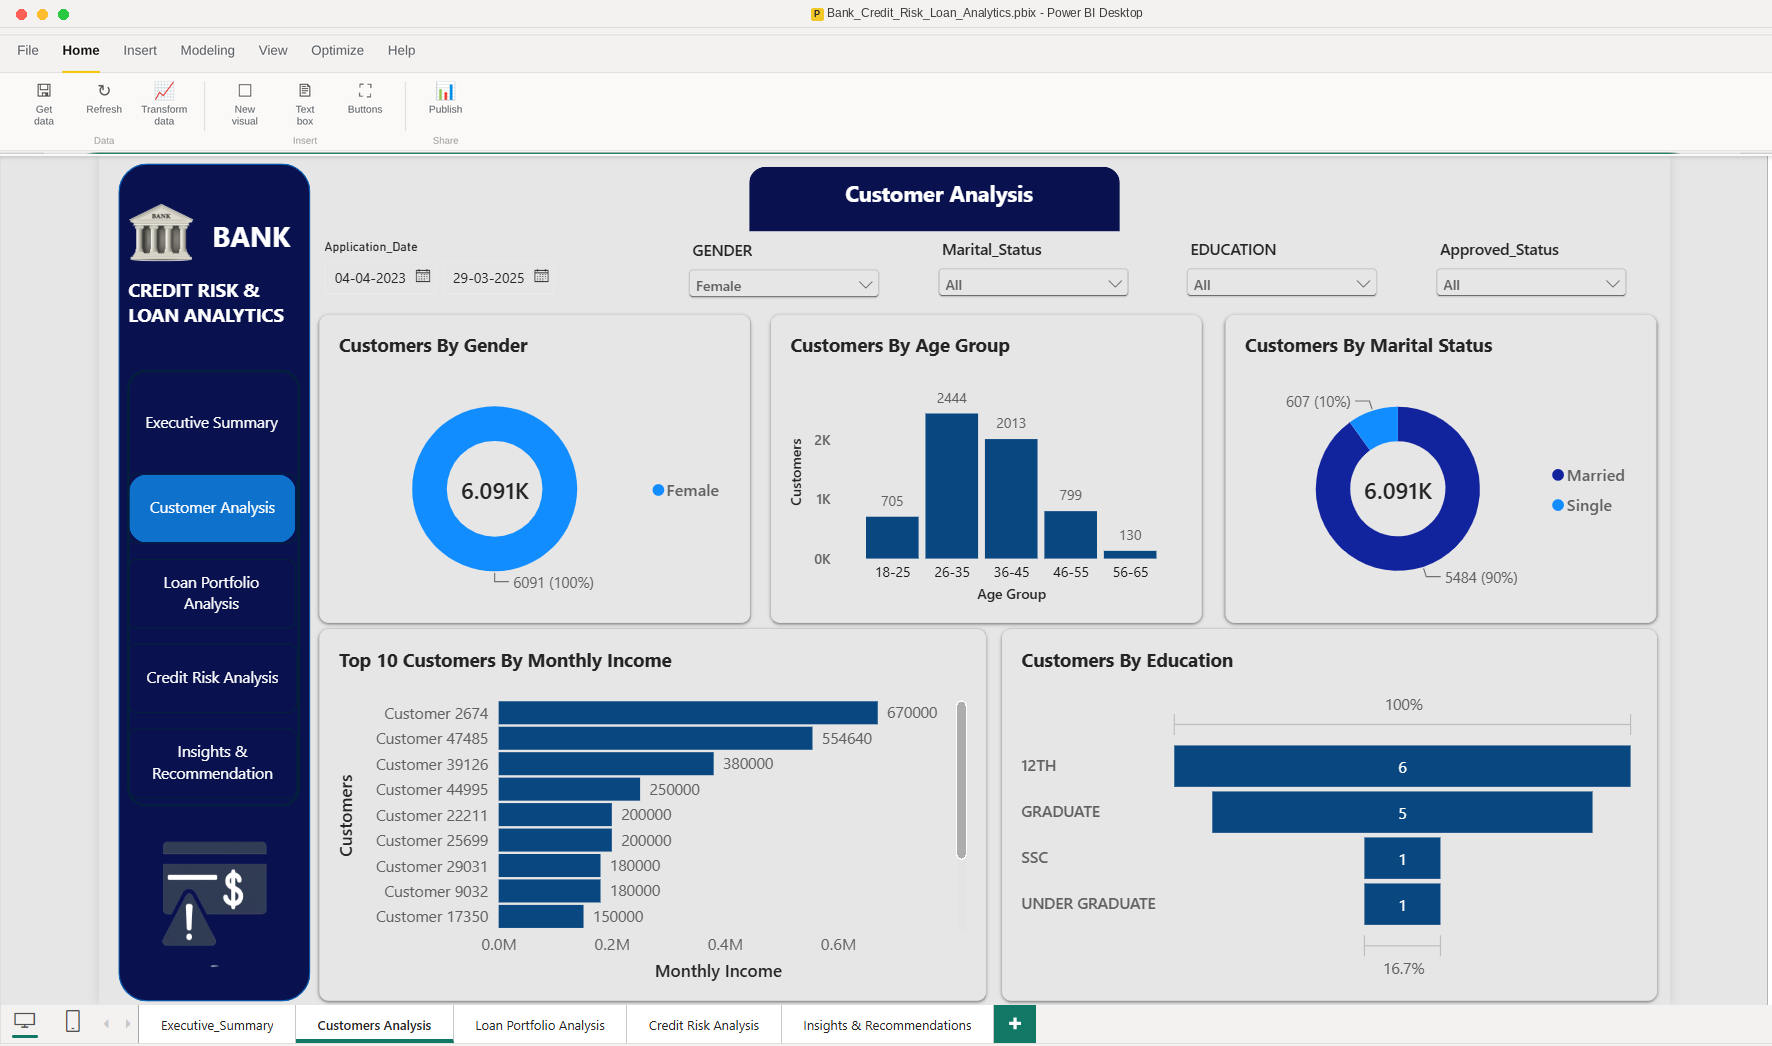

The dashboard page shown, as its layout file describes it:
{"tool":"powerbi","page":{"name":"Customers Analysis","canvas":[1350,730],"ordinal":1},"visuals":[{"type":"shape","box":[16.4,6.2,165,720],"z":0},{"type":"image","box":[16.4,27,71.8,77],"z":1000},{"type":"textbox","box":[88.1,51.9,85.3,36.4],"z":2000},{"type":"textbox","box":[24.7,103.9,174.3,55.7],"z":3000},{"type":"shape","box":[23.9,184.1,148.7,375.5],"z":4000},{"type":"actionButton","title":"Executive Summary","box":[23.9,199.7,145,60.3],"z":5000},{"type":"actionButton","title":"Executive Summary","box":[25,272.7,145,60.3],"z":6000},{"type":"actionButton","title":"Executive Summary","box":[23.9,345.8,145,60.3],"z":7000},{"type":"actionButton","title":"Executive Summary","box":[25,418.9,145,60.3],"z":8000},{"type":"actionButton","title":"Executive Summary","box":[25,491.9,145,60.3],"z":9000},{"type":"shape","box":[559.1,9,318.6,55.7],"z":10000},{"type":"textbox","box":[590.3,19.4,263.1,35.4],"z":11000},{"type":"slicer","fields":{"Values":["Dim_Customer.Application_Date"]},"box":[186,71.4,275.6,64.5],"z":12000},{"type":"slicer","fields":{"Values":["Dim_Customer.GENDER"]},"box":[501.9,71.4,173.7,60.3],"z":13000},{"type":"slicer","fields":{"Values":["Dim_Customer.Marital_Status"]},"box":[716,70.4,173.7,60.3],"z":14000},{"type":"slicer","fields":{"Values":["Dim_Customer.Approved_Status"]},"box":[1144.1,70.7,173.7,60.3],"z":15000},{"type":"donutChart","title":"Customers By Gender","fields":{"Category":["Dim_Customer.GENDER"],"Y":["CountNonNull(Dim_Customer.PROSPECTID)"]},"box":[188.9,136.2,370,264.7],"z":16000},{"type":"slicer","fields":{"Values":["Dim_Customer.EDUCATION"]},"box":[930.1,70.4,173.7,60.3],"z":17000},{"type":"clusteredColumnChart","title":"Customers By Age Group","fields":{"Category":["Dim_Customer.Age Group"],"Y":["CountNonNull(Dim_Customer.PROSPECTID)"]},"box":[576.8,136.2,370,264.7],"z":18000},{"type":"donutChart","title":"Customers By Marital Status","fields":{"Category":["Dim_Customer.Marital_Status"],"Y":["CountNonNull(Dim_Customer.PROSPECTID)"]},"box":[967.9,136.2,370,264.7],"z":19000},{"type":"clusteredBarChart","title":"Top 10 Customers By Monthly Income","fields":{"Category":["Dim_Customer.Customer"],"Y":["Sum(Dim_Customer.NETMONTHLYINCOME)"]},"box":[188.9,406.4,573.1,319.8],"z":20000},{"type":"funnel","title":"Customers By Education","fields":{"Category":["Dim_Customer.EDUCATION"],"Y":["CountNonNull(Dim_Customer.PROSPECTID)"]},"box":[775.8,406.4,562.6,319.8],"z":21000}]}

Visuals, with their boxes on the page's 1350x730 design canvas (x1, y1, x2, y2). These are canvas units, not pixel positions in the 1772x1046 screenshot, which may show the page scaled, cropped or inside an application window:
shape: detection(16, 6, 181, 726)
image: detection(16, 27, 88, 104)
textbox: detection(88, 52, 173, 88)
textbox: detection(25, 104, 199, 160)
shape: detection(24, 184, 173, 560)
"Executive Summary" actionButton: detection(24, 200, 169, 260)
"Executive Summary" actionButton: detection(25, 273, 170, 333)
"Executive Summary" actionButton: detection(24, 346, 169, 406)
"Executive Summary" actionButton: detection(25, 419, 170, 479)
"Executive Summary" actionButton: detection(25, 492, 170, 552)
shape: detection(559, 9, 878, 65)
textbox: detection(590, 19, 853, 55)
slicer - Dim_Customer.Application_Date: detection(186, 71, 462, 136)
slicer - Dim_Customer.GENDER: detection(502, 71, 676, 132)
slicer - Dim_Customer.Marital_Status: detection(716, 70, 890, 131)
slicer - Dim_Customer.Approved_Status: detection(1144, 71, 1318, 131)
"Customers By Gender" donutChart: detection(189, 136, 559, 401)
slicer - Dim_Customer.EDUCATION: detection(930, 70, 1104, 131)
"Customers By Age Group" clusteredColumnChart: detection(577, 136, 947, 401)
"Customers By Marital Status" donutChart: detection(968, 136, 1338, 401)
"Top 10 Customers By Monthly Income" clusteredBarChart: detection(189, 406, 762, 726)
"Customers By Education" funnel: detection(776, 406, 1338, 726)
